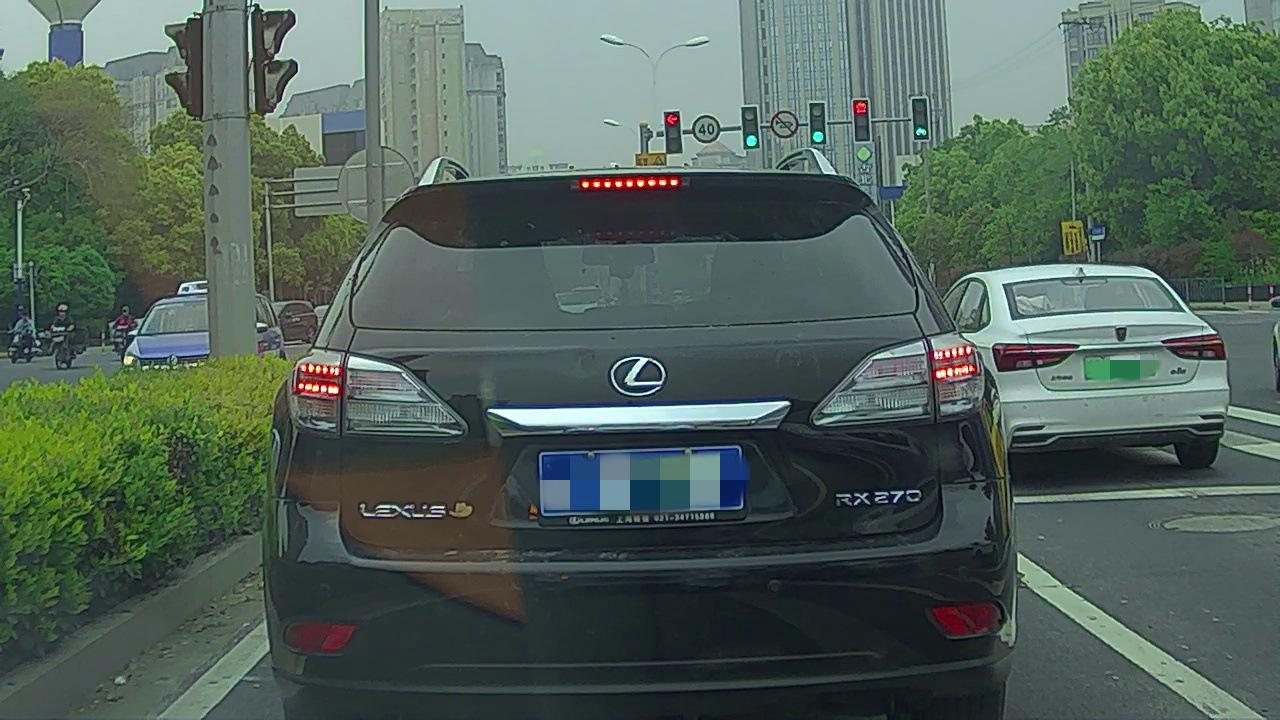traffic_light: (911, 97, 929, 140), (741, 108, 759, 148), (809, 103, 826, 145), (666, 112, 682, 154), (854, 101, 870, 142)
